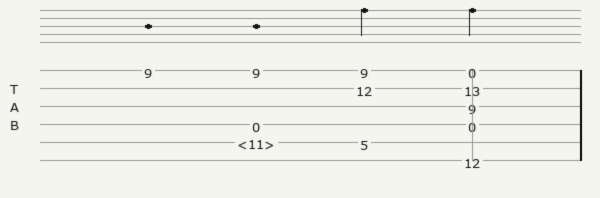0: (252, 118, 264, 131), (468, 64, 480, 77), (468, 118, 480, 131)
12: (356, 82, 376, 95), (464, 154, 484, 167)
13: (464, 82, 484, 95)
5: (360, 136, 372, 149)
9: (144, 64, 156, 77), (252, 64, 264, 77), (360, 64, 372, 77), (468, 100, 480, 113)
harmonic: (237, 135, 279, 149)
